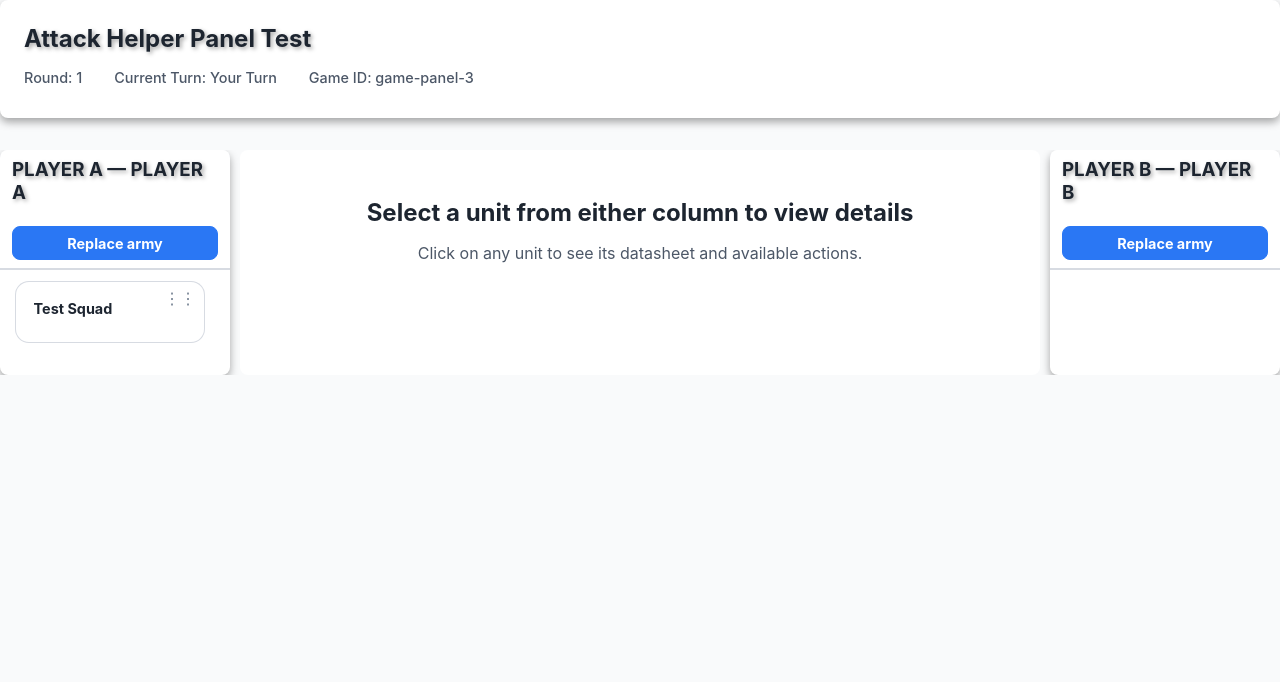
Attack Helper panel › changing models in range updates expected hits
The image size is (1280, 682).
Click the button "⋮⋮ Test Squad".
click(110, 312)  # box [15,281,205,343]
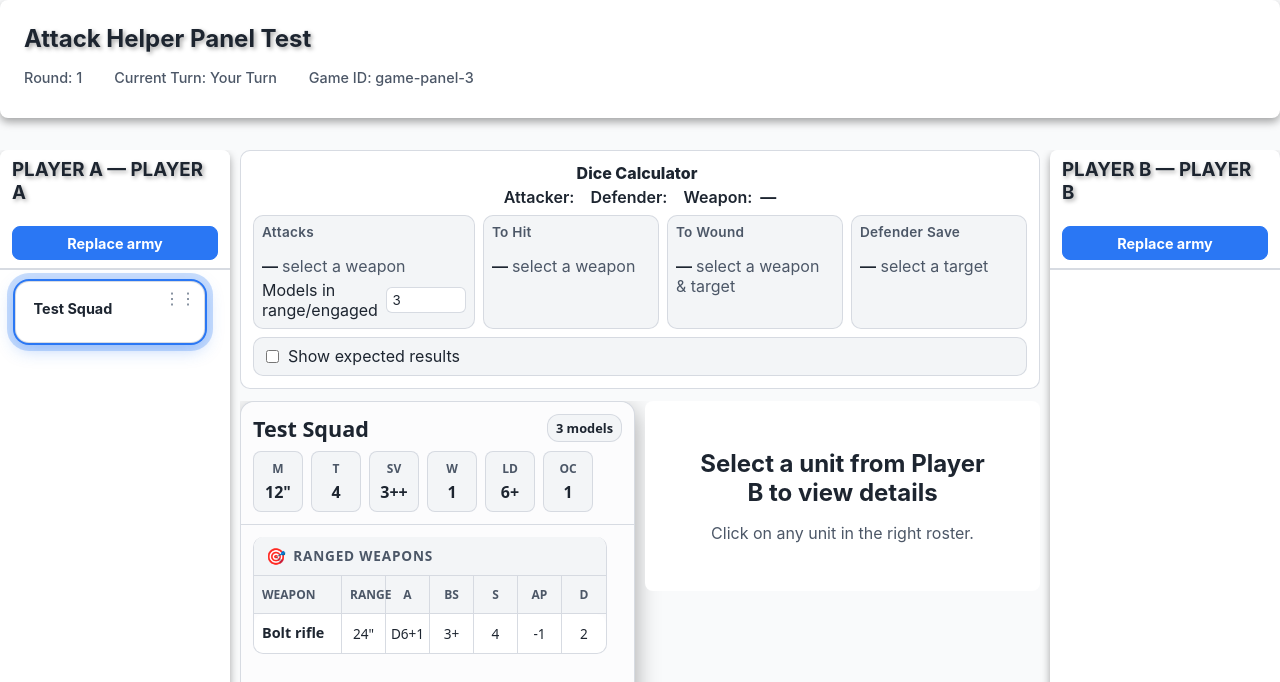
Click the button "Bolt rifle 24\" D6+1 3+ 4 -1 2".
click(430, 633)  # box [254,614,606,652]
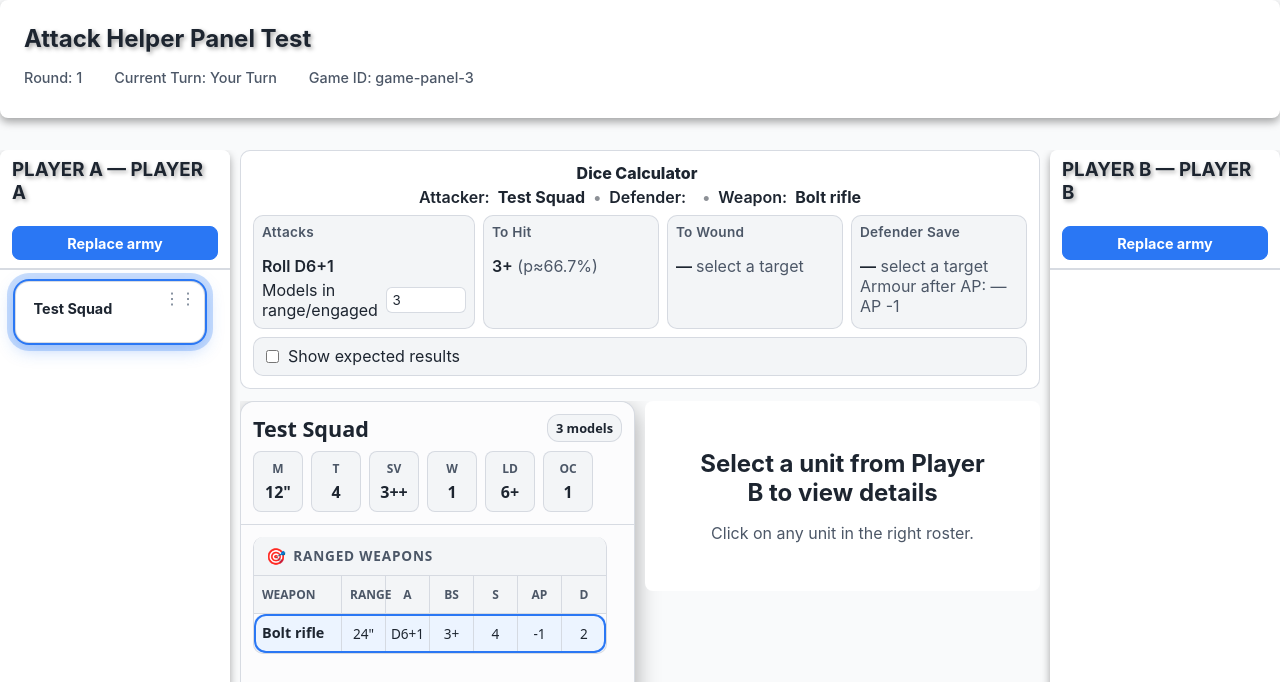
Click the checkbox labelled "Show expected results".
click(272, 356)  # box [266,350,279,362]
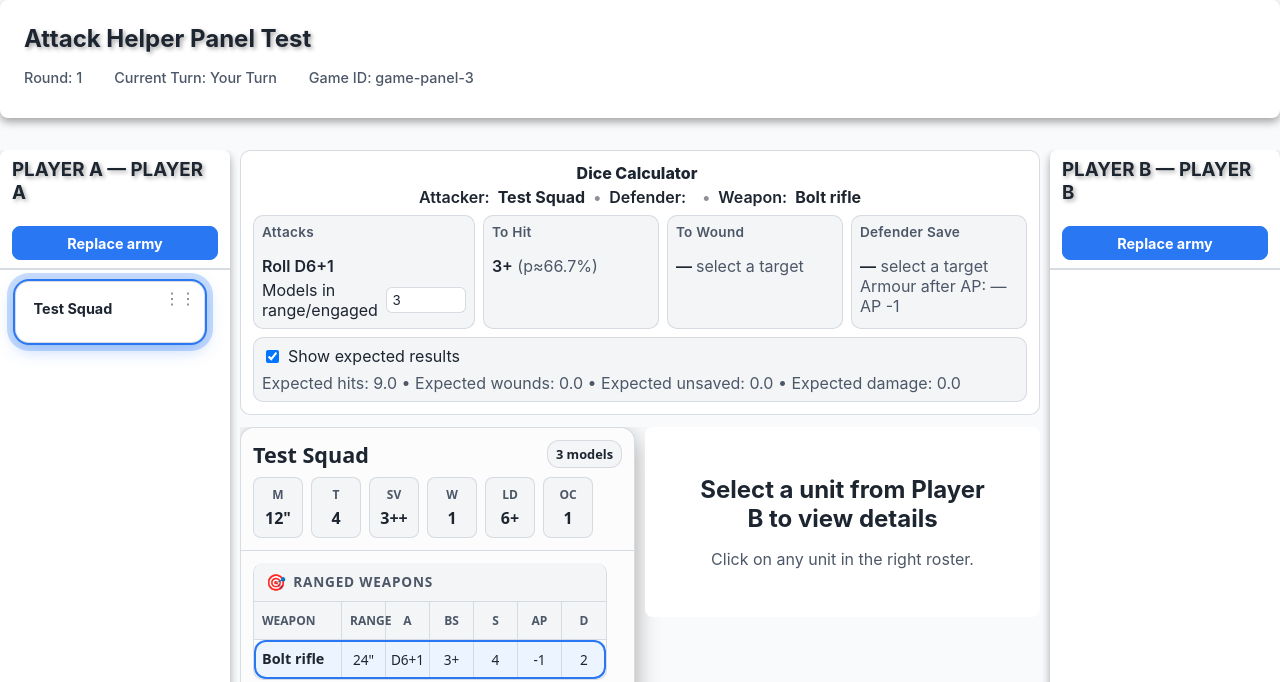
Replace the text in the number field labelled "Models in range/engaged" with "2" at (426,300), box [386,287,466,313]
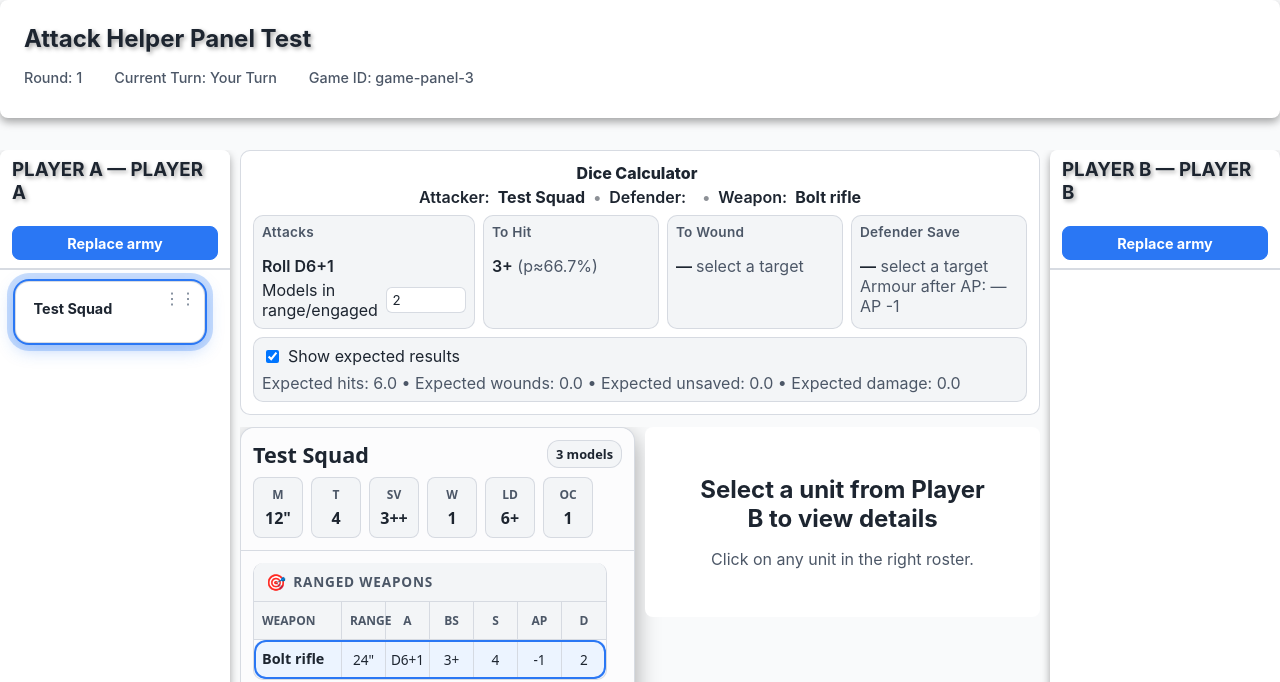
Expected: the text "Expected results" is shown, [262,372,1018,392]
